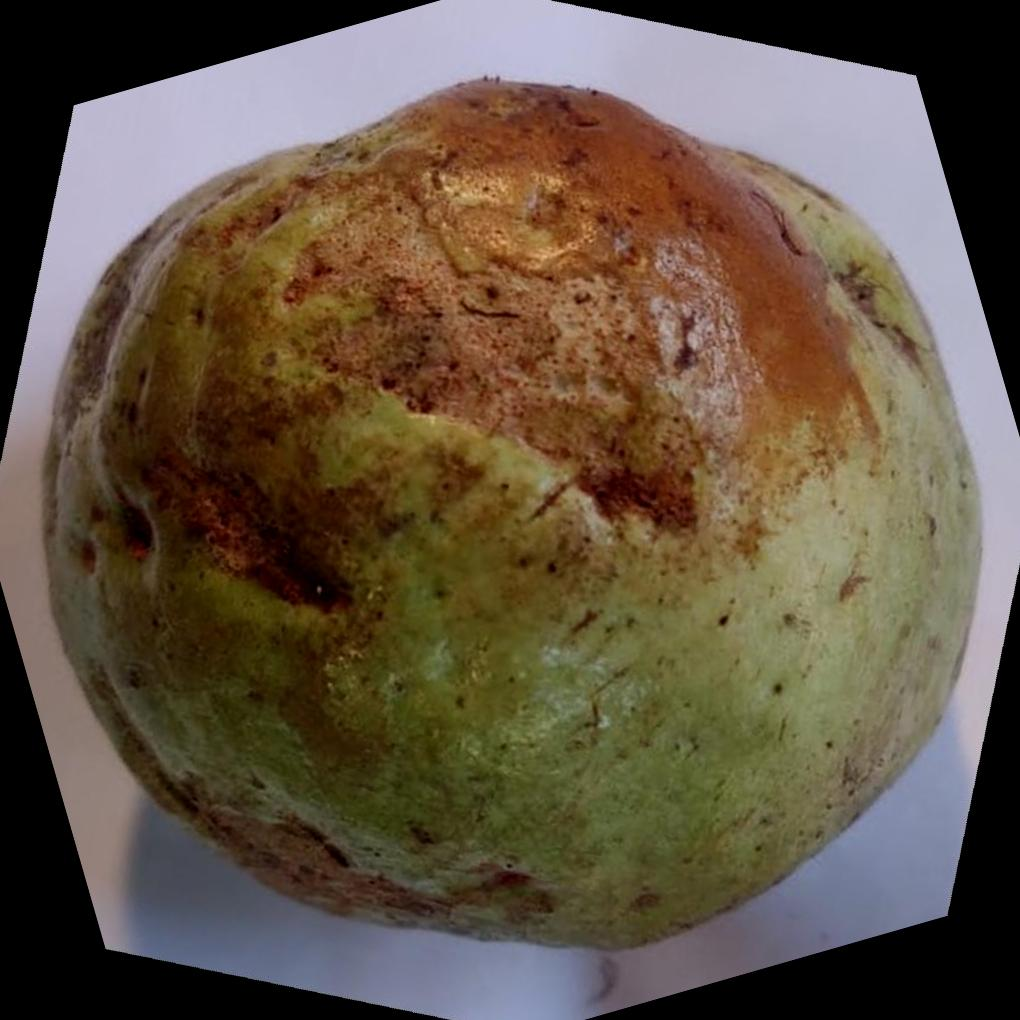FreshOrange: (39, 76, 985, 957)
